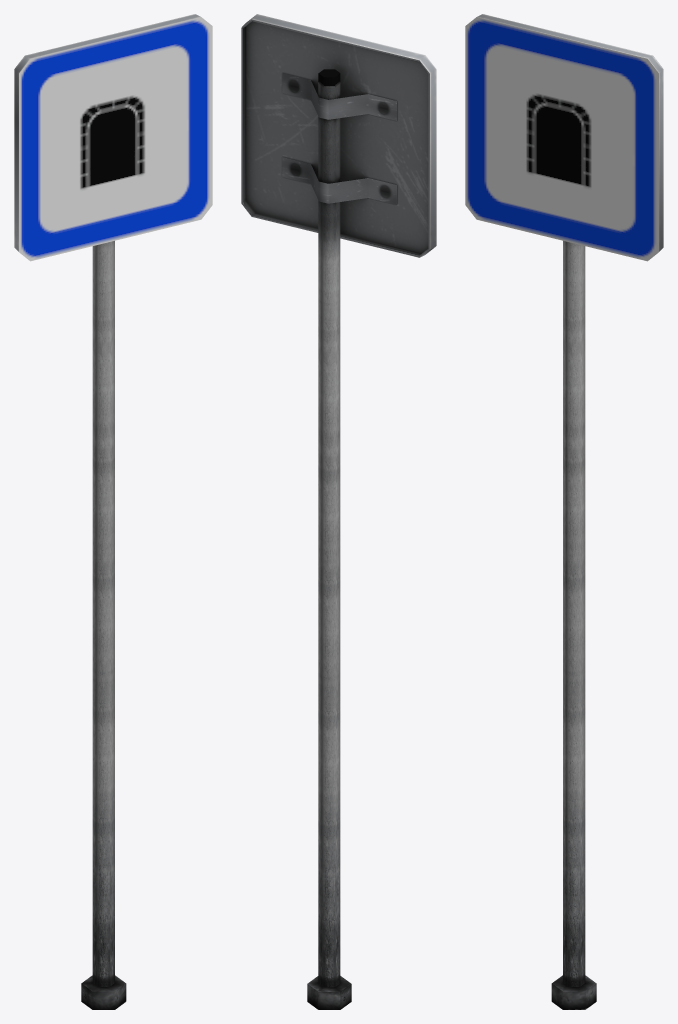
File: ROD0310042.FBX
3 views of the same model, side by side, from view 1: azimuth 30°, elevation 25°; view 2: azimuth 150°, elevation 25°; view 3: azimuth 330°, elevation 25° (orthographic).
Visible parts, largest first — view 1: smROD0310042; view 2: smROD0310042; view 3: smROD0310042.
Part boxes in pixels (x1,y1,x2,y2): smROD0310042: [14, 14, 212, 1009]; smROD0310042: [241, 14, 436, 1009]; smROD0310042: [465, 14, 663, 1009].
Size of the model in its own units: 0.5079 by 2.44 by 0.1057.
1 material, 1 textured.
